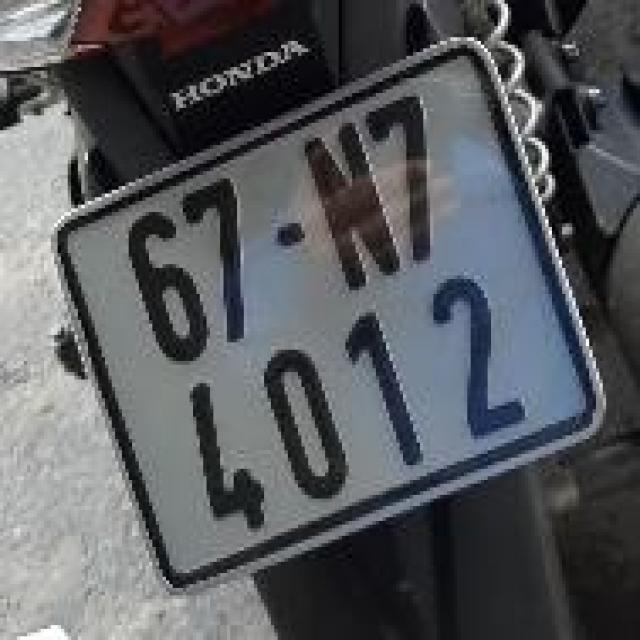0: (243, 327, 372, 517)
1: (319, 295, 454, 486)
2: (412, 249, 550, 450)
4: (170, 363, 287, 552)
6: (105, 197, 231, 379)
7: (355, 80, 467, 273), (167, 165, 279, 352)
N: (283, 104, 412, 309)
